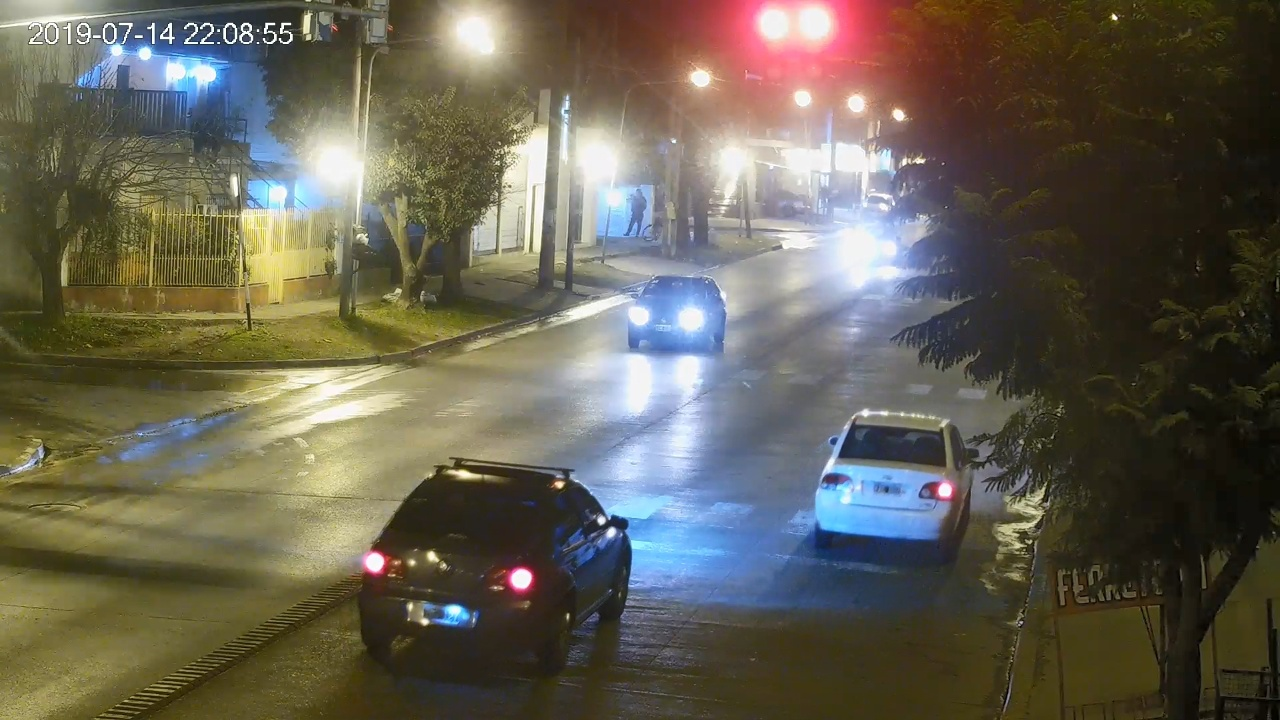car: (359, 457, 632, 670), (814, 408, 980, 561)
front car: (628, 273, 726, 349)
traffic light: (802, 7, 829, 80), (762, 4, 788, 78)
